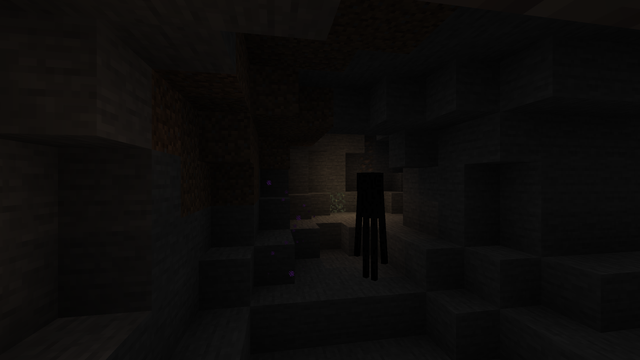endermens: (355, 168, 384, 282)
